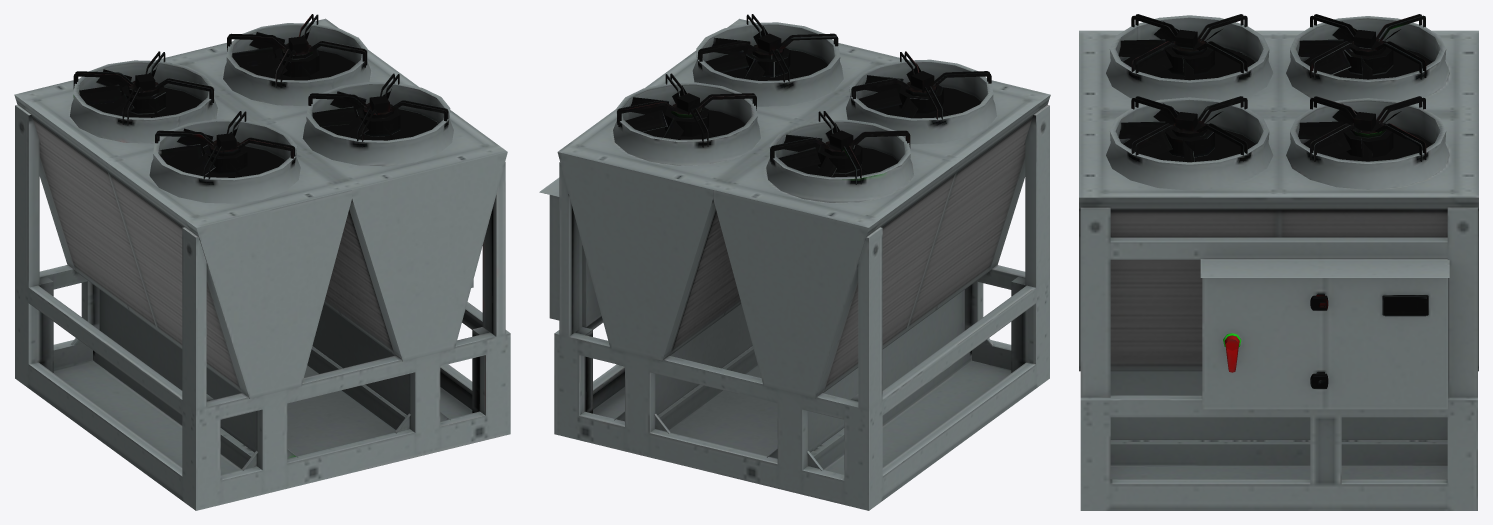
Rendered from Sysaqua-Expo_512_Diffuse.glb.
3 views of the same model, side by side, from view 1: azimuth 30°, elevation 25°; view 2: azimuth 150°, elevation 25°; view 3: azimuth 270°, elevation 25° (orthographic). The views are drawn at different scales.
Parts seen in each view (by area): view 1: Sysaqua-Expo; view 2: Sysaqua-Expo; view 3: Sysaqua-Expo.
Boxes of the visible parts, bbox=[...] form: Sysaqua-Expo: bbox=[14, 14, 510, 510]; Sysaqua-Expo: bbox=[539, 14, 1050, 510]; Sysaqua-Expo: bbox=[1079, 14, 1478, 510].
Size of the model in its own units: 2.36 by 2.1 by 2.17.
1 material, 1 textured.
